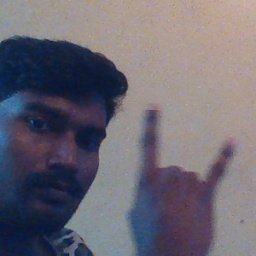V: (127, 100, 241, 255)
